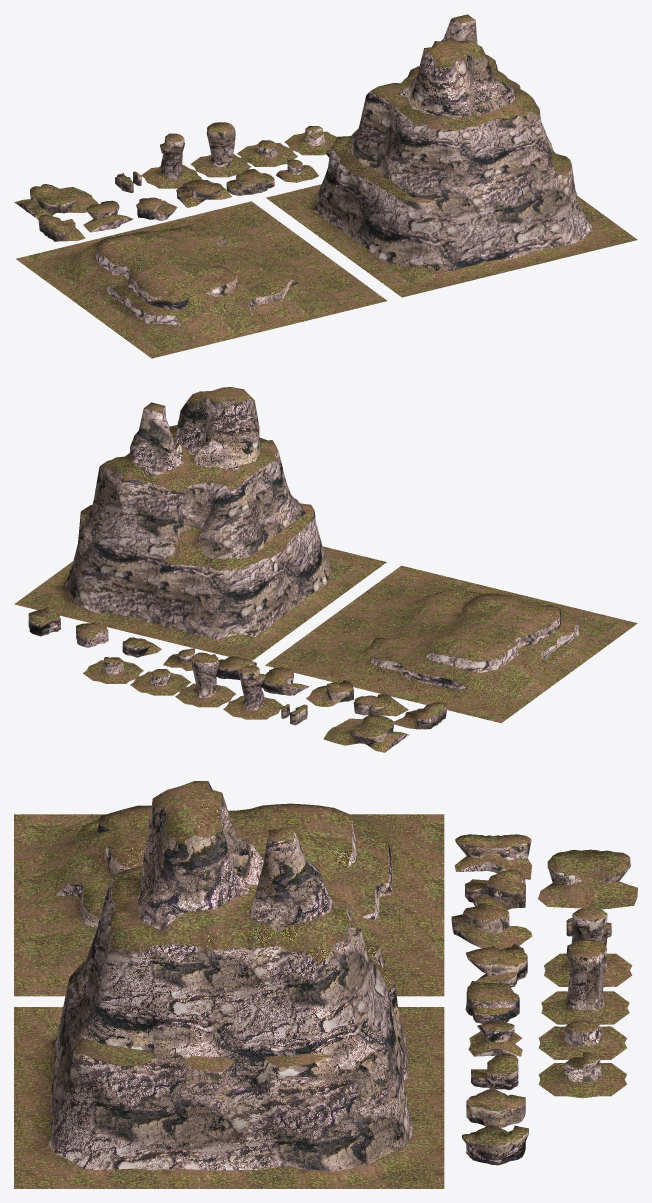
Rendered from Hills.glb.
3 views of the same model, one above another, from view 1: azimuth 30°, elevation 25°; view 2: azimuth 150°, elevation 25°; view 3: azimuth 270°, elevation 25° (orthographic). The views are drawn at different scales.
Visible parts, largest first — view 1: Mountain, Hill, HillCenterTower2, HillBig, HillCenterTower1, HillCenter1, HillCenter2, Hill8, Hill2, Hill5, Hill7, Hill3 (+1 smaller); view 2: Mountain, Hill, HillBig, HillCenterTower2, HillCenterTower1, HillCenter2, HillCenter1, Hill7, Hill2, Hill3, Hill8, Hill9 (+3 smaller); view 3: Mountain, Hill, HillBig, HillCenterTower2, HillCenter2, Hill7, HillCenter1, HillCenterTower1, Hill3, Hill9, Hill5, Hill2 (+4 smaller).
Part boxes in pixels (x1,y1,x2,y2): Mountain: (266,14,637,297); Hill: (16,201,387,358); HillCenterTower2: (190,122,251,177); HillBig: (14,184,98,219); HillCenterTower1: (141,133,201,188); HillCenter1: (237,140,297,166); HillCenter2: (284,126,337,155); Hill8: (176,179,231,207); Hill2: (83,200,133,232); Hill5: (226,169,274,195); Hill7: (38,214,85,241); Hill3: (136,197,177,220); Mountain: (14,387,386,660); Hill: (265,565,637,723); HillBig: (323,715,409,752); HillCenterTower2: (175,652,235,707); HillCenterTower1: (223,665,283,719); HillCenter2: (83,657,143,683); HillCenter1: (130,669,191,695); Hill7: (394,702,446,729); Hill2: (353,694,408,716); Hill3: (306,680,353,706); Hill8: (261,667,309,695); Hill9: (28,607,60,636); Mountain: (14,781,444,1188); Hill: (14,803,444,996); HillBig: (538,849,637,909); HillCenterTower2: (541,940,629,1024); HillCenter2: (538,1052,626,1098); Hill7: (454,834,531,879); HillCenter1: (538,1020,626,1059); HillCenterTower1: (544,908,632,987); Hill3: (451,903,532,948); Hill9: (462,1125,528,1165); Hill5: (465,981,519,1023); Hill2: (465,870,525,909).
Bounding box in the file's own units: 1030 × 376 × 725.
Materials: 2 (2 with a texture image).
